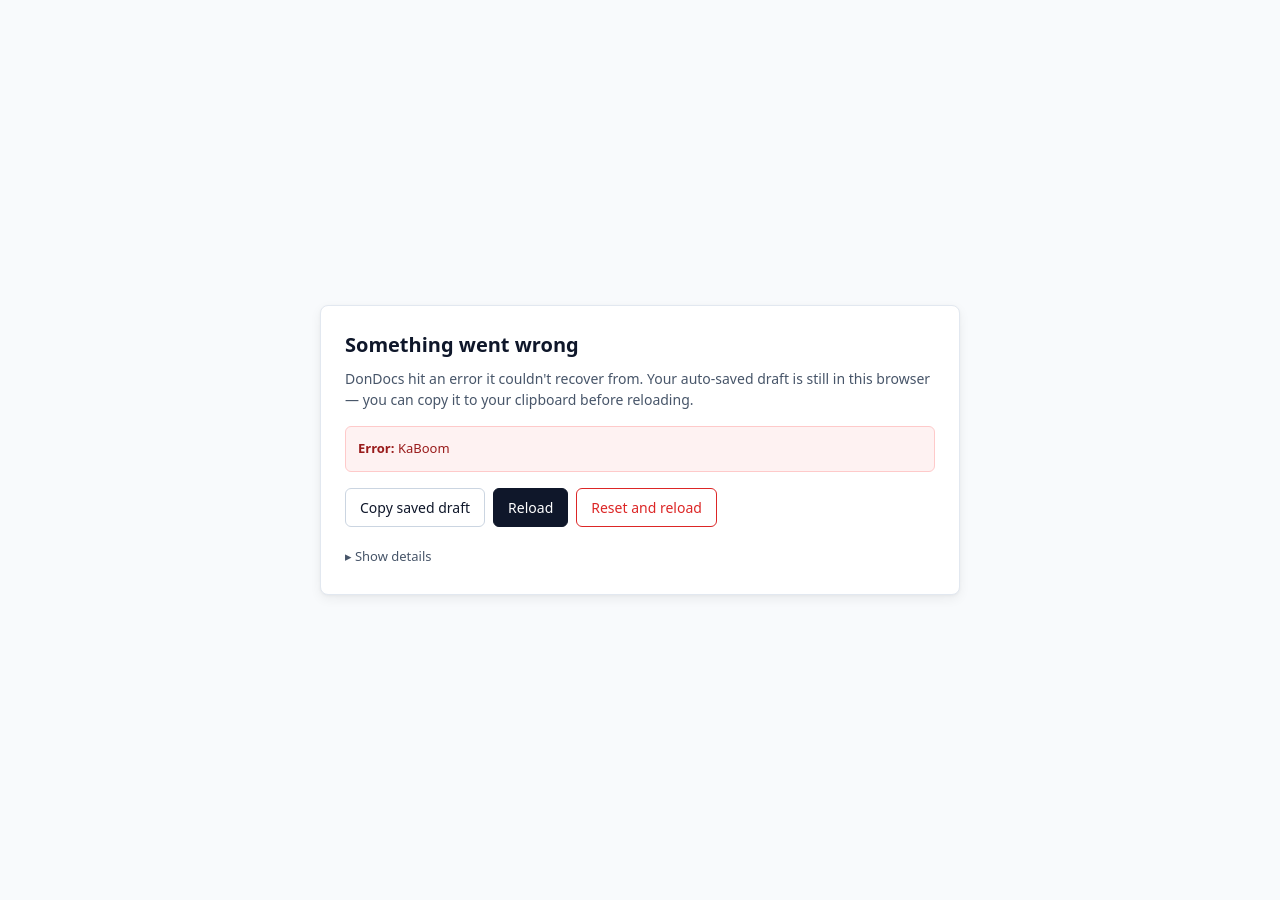
ErrorBoundary › "Copy saved draft" reports failure when the clipboard rejects
This screenshot has width=1280, height=900.
Click the button with aria-label "copy auto-saved session": x=415, y=507 [345,488,485,526]
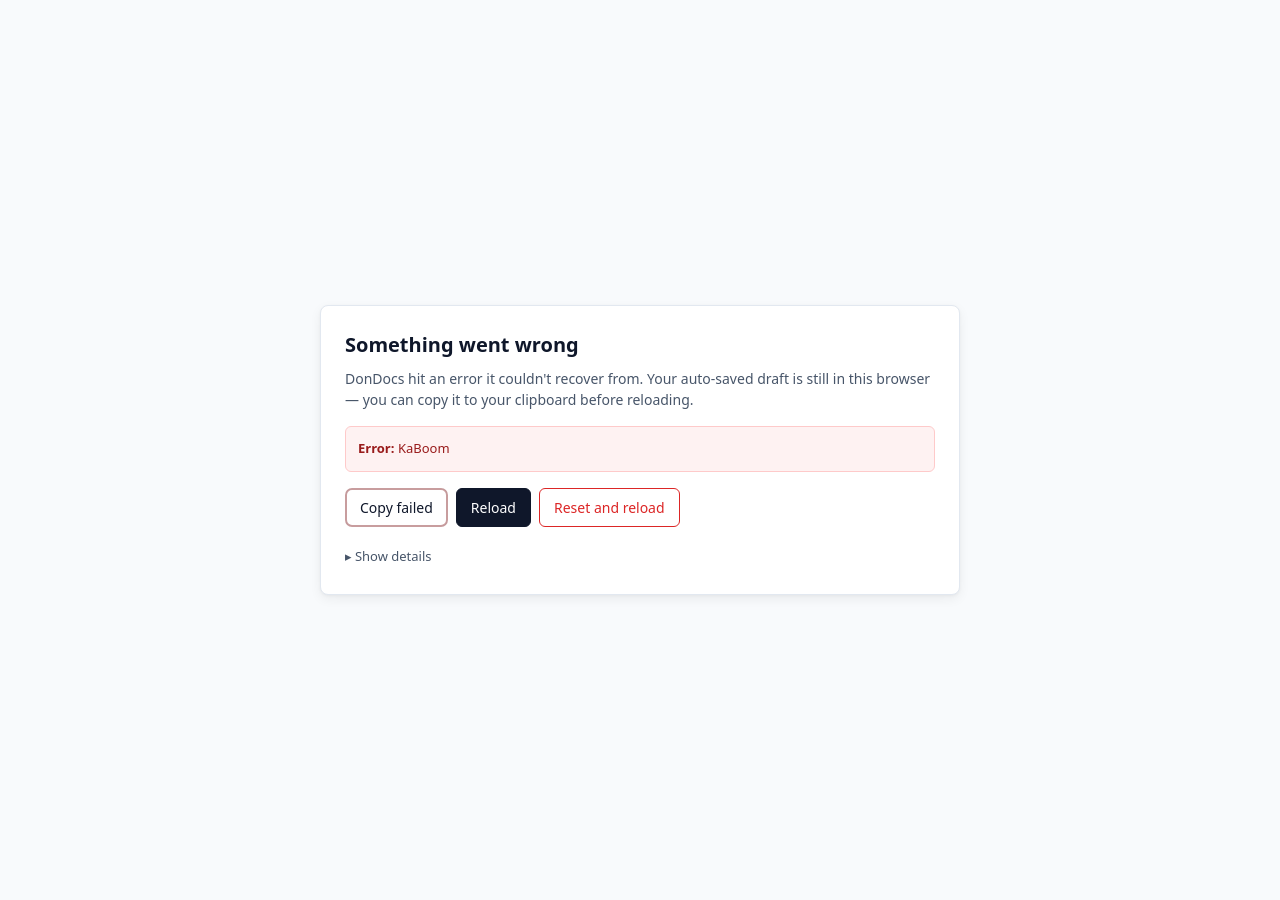
Expected: the button "Copy failed" is shown, [345,488,448,526]
